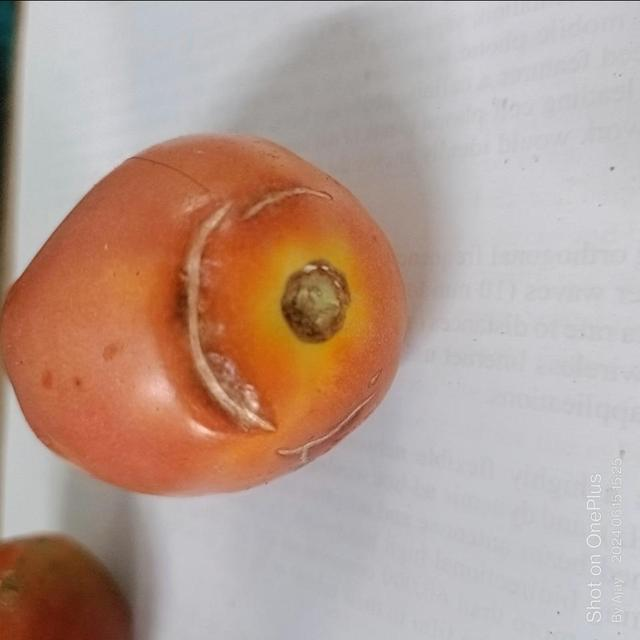Cracking Fruit: (66, 25, 184, 252)
